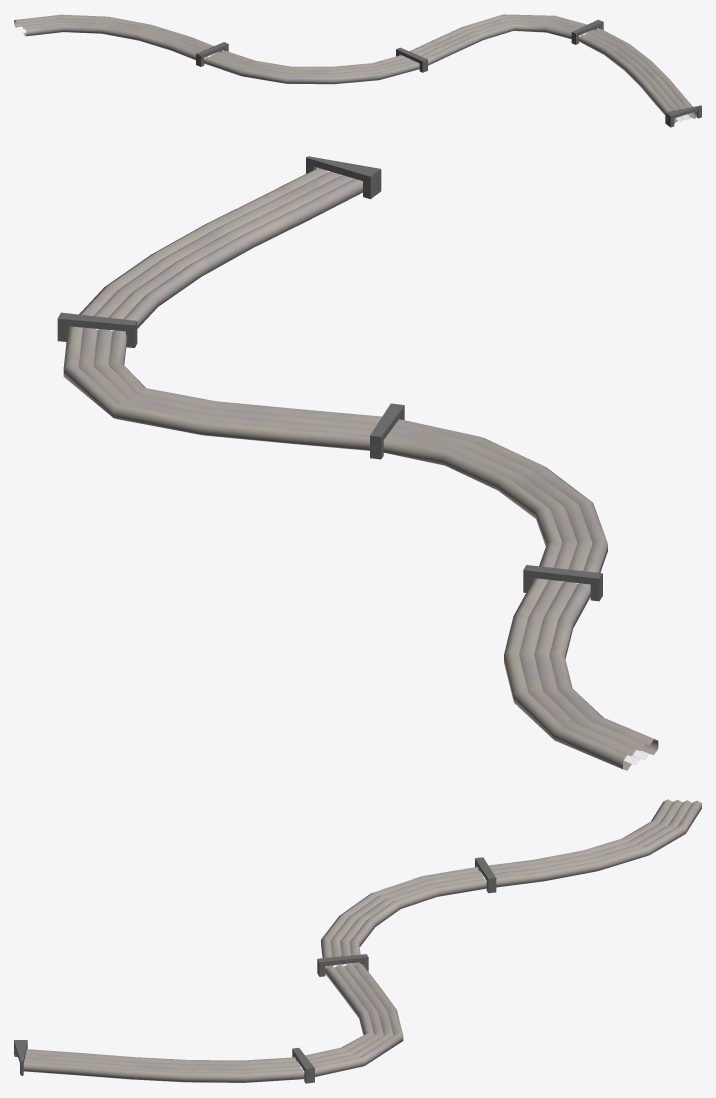
File: Test_Rope2__6.fbx
3 views of the same model, one above another, from view 1: azimuth 30°, elevation 25°; view 2: azimuth 150°, elevation 25°; view 3: azimuth 270°, elevation 25° (orthographic). The views are drawn at different scales.
Parts seen in each view (by area): view 1: Mat_Tile_Color_07 1, Mat_Tile_Color_07 2, Mat_Tile_Color_07 3, Mat_Tile_Color_01 1; view 2: Mat_Tile_Color_07 1, Mat_Tile_Color_07 2, Mat_Tile_Color_07 3, Mat_Tile_Color_01 1; view 3: Mat_Tile_Color_07 1, Mat_Tile_Color_07 2, Mat_Tile_Color_07 3, Mat_Tile_Color_01 1.
Boxes of the visible parts, x1,y1,x2,y2 form: Mat_Tile_Color_07 1: (14,14,697,118); Mat_Tile_Color_07 2: (23,23,677,123); Mat_Tile_Color_07 3: (19,17,690,115); Mat_Tile_Color_01 1: (196,19,701,127); Mat_Tile_Color_07 1: (63,168,647,770); Mat_Tile_Color_07 2: (108,179,658,754); Mat_Tile_Color_07 3: (78,171,638,755); Mat_Tile_Color_01 1: (57,156,602,601); Mat_Tile_Color_07 1: (23,800,701,1082); Mat_Tile_Color_07 2: (26,799,672,1065); Mat_Tile_Color_07 3: (24,800,691,1072); Mat_Tile_Color_01 1: (14,857,496,1083).
Size of the model in its own units: 7.42 by 0.1815 by 7.82.
5 materials, 5 textured.
